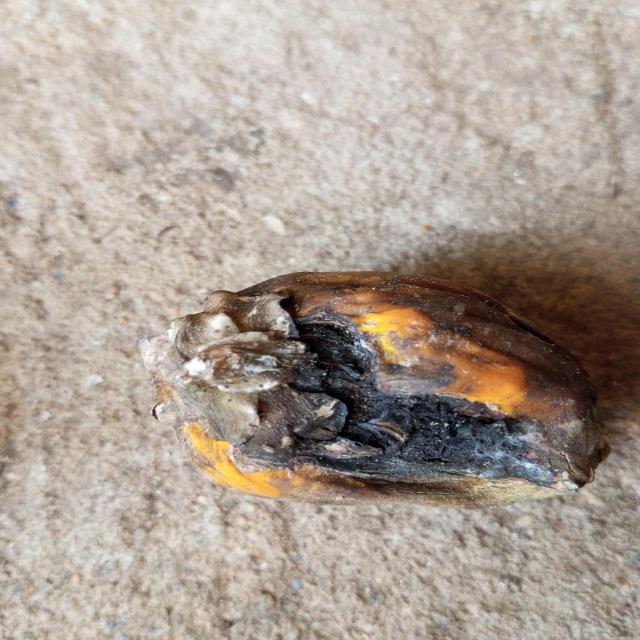damaged: (141, 241, 640, 508)
